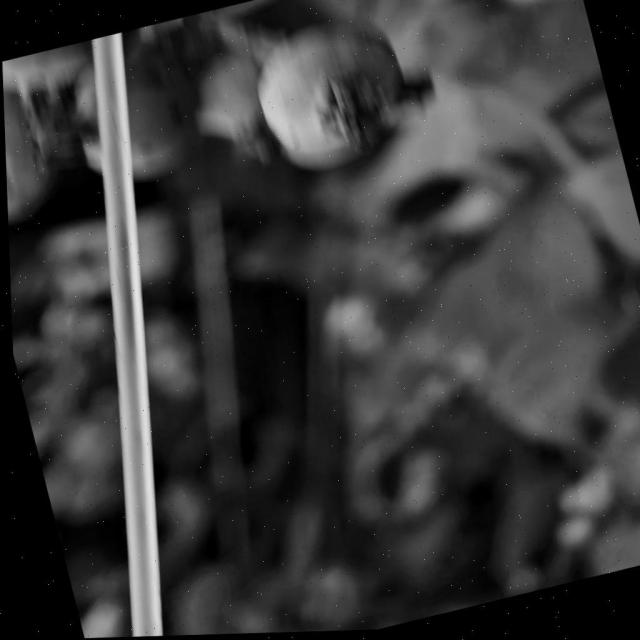RipeBlueBerry: (58, 35, 203, 188)
